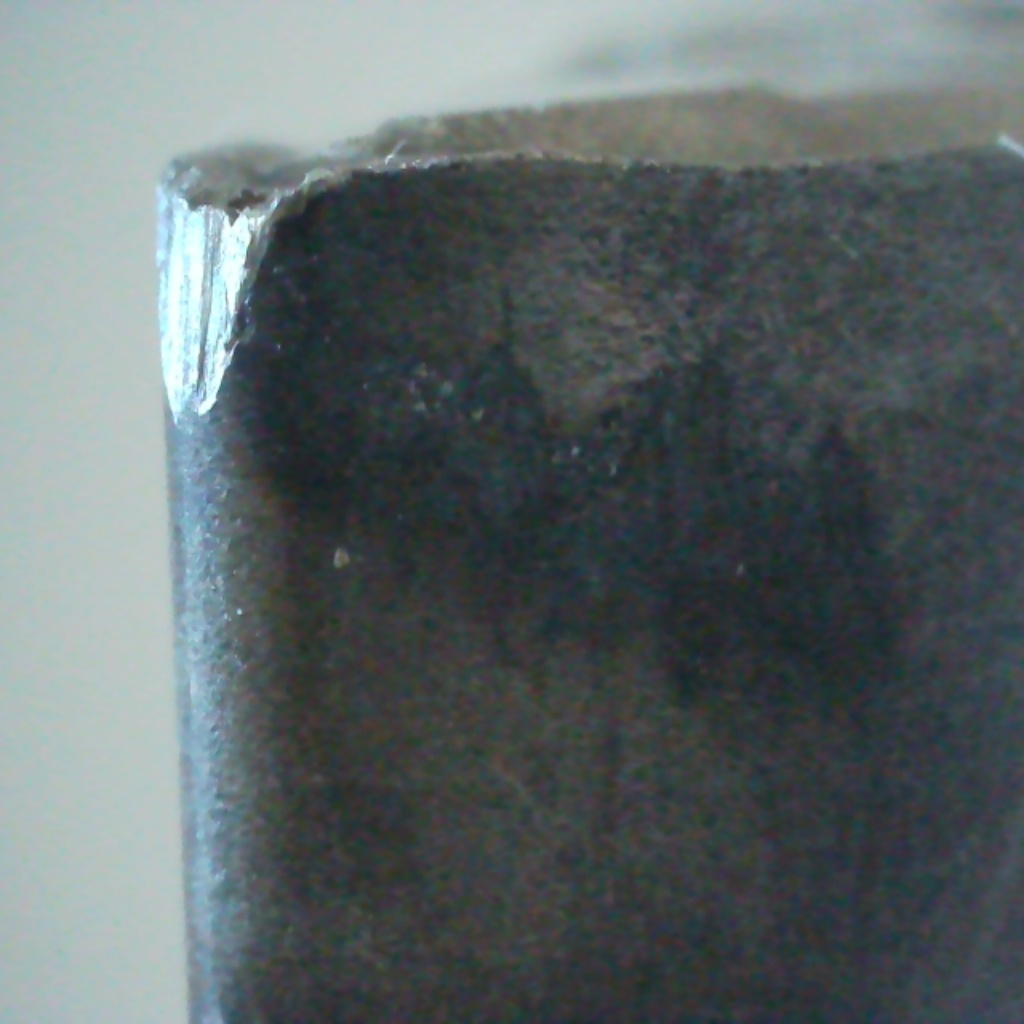flank_wear: (144, 177, 274, 437)
